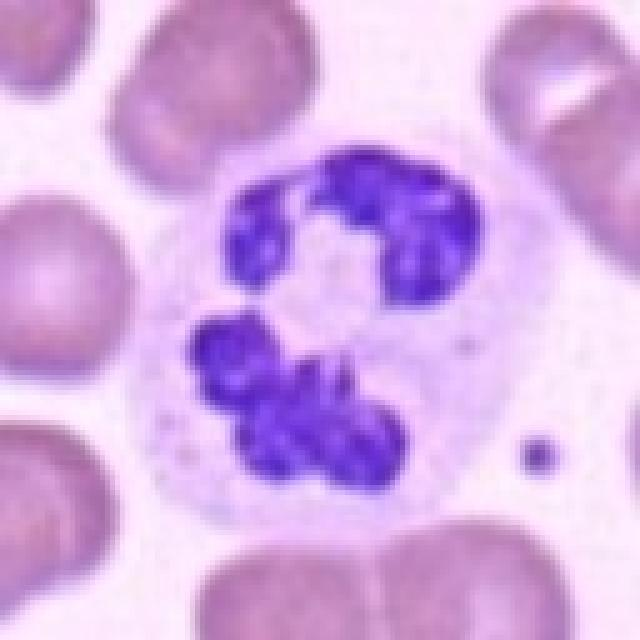neutro: (114, 124, 511, 509)
